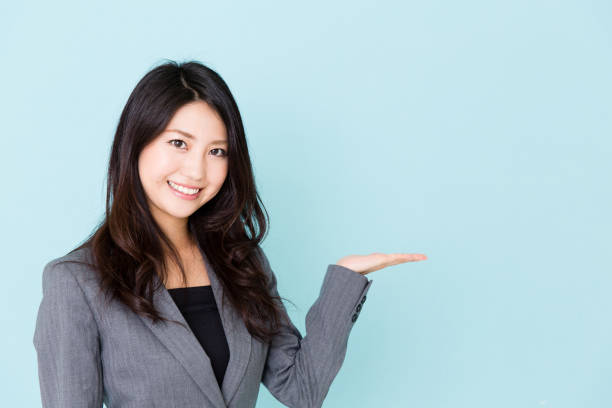pointing_gesture: (335, 249, 443, 274)
